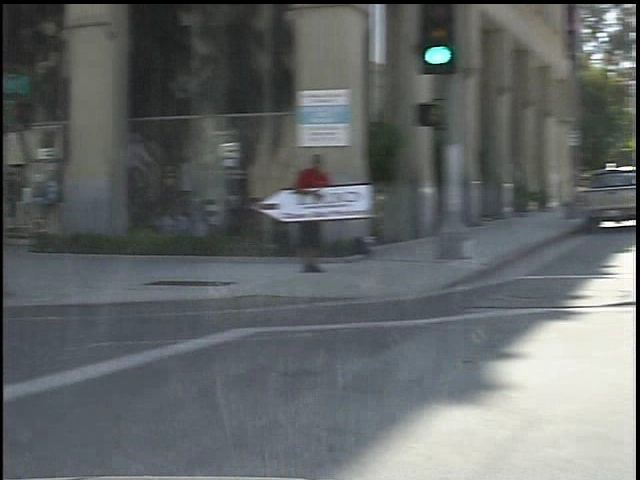person: (280, 143, 324, 276)
